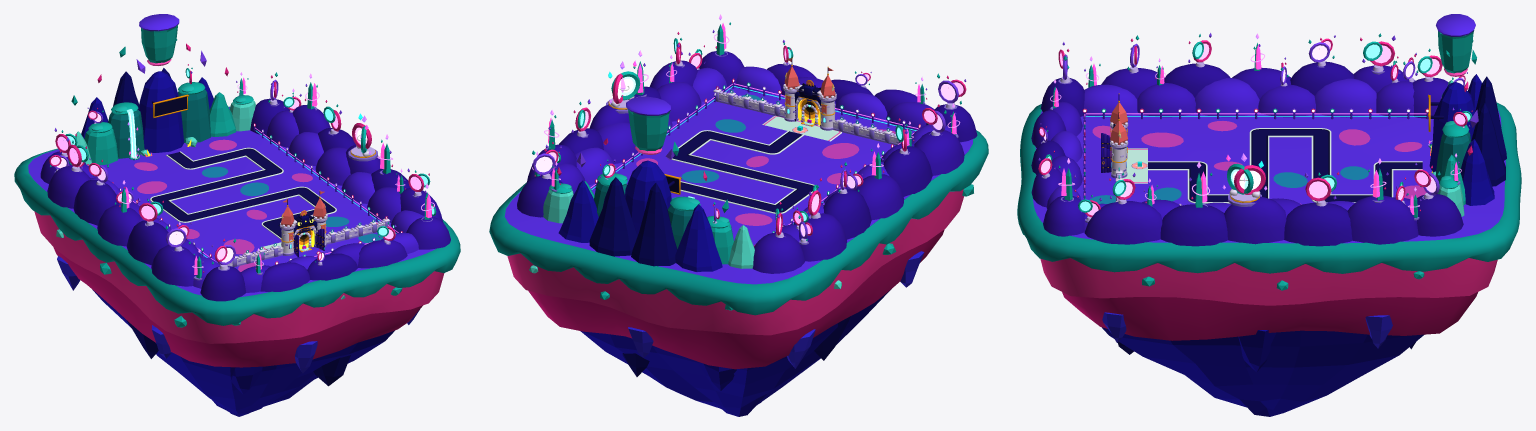
Rendered from multiverse_base.fbx.
The picture shows the model from 3 angles, left to right: view 1: azimuth 30°, elevation 25°; view 2: azimuth 150°, elevation 25°; view 3: azimuth 270°, elevation 25°; orthographic projection. The views are drawn at different scales.
Parts seen in each view (by area): view 1: Base_Cliff, Base_Backdrop, Base_Ground, Base_Road, Base_Trees, Base_Glow, Base_Gate, Base_Dressing, Base_GateTrim; view 2: Base_Cliff, Base_Backdrop, Base_Ground, Base_Road, Base_Trees, Base_Glow, Base_Gate, Base_GateTrim, Base_Dressing; view 3: Base_Cliff, Base_Backdrop, Base_Ground, Base_Trees, Base_Glow, Base_Road, Base_Gate, Base_Dressing, Base_GateTrim.
Boxes of the visible parts, x1,y1,x2,y2 form: Base_Cliff: (14, 106, 460, 416); Base_Backdrop: (40, 14, 450, 301); Base_Ground: (28, 107, 435, 296); Base_Road: (150, 147, 336, 249); Base_Trees: (48, 64, 436, 280); Base_Glow: (51, 69, 434, 274); Base_Gate: (218, 190, 390, 267); Base_Dressing: (87, 123, 402, 264); Base_GateTrim: (281, 191, 326, 240); Base_Cliff: (489, 130, 988, 416); Base_Backdrop: (517, 51, 977, 273); Base_Ground: (504, 87, 972, 284); Base_Road: (671, 115, 841, 213); Base_Trees: (532, 22, 966, 244); Base_Glow: (532, 14, 963, 236); Base_Gate: (713, 58, 900, 145); Base_GateTrim: (784, 58, 835, 132); Base_Dressing: (595, 78, 920, 246); Base_Cliff: (1017, 102, 1521, 416); Base_Backdrop: (1031, 14, 1506, 246); Base_Ground: (1033, 110, 1505, 243); Base_Trees: (1038, 33, 1472, 222); Base_Glow: (1039, 33, 1470, 215); Base_Road: (1122, 128, 1422, 203); Base_Gate: (1101, 93, 1147, 201); Base_Dressing: (1082, 108, 1428, 205); Base_GateTrim: (1110, 102, 1146, 168).
Bounding box in the file's own units: 188 × 210 × 244.
